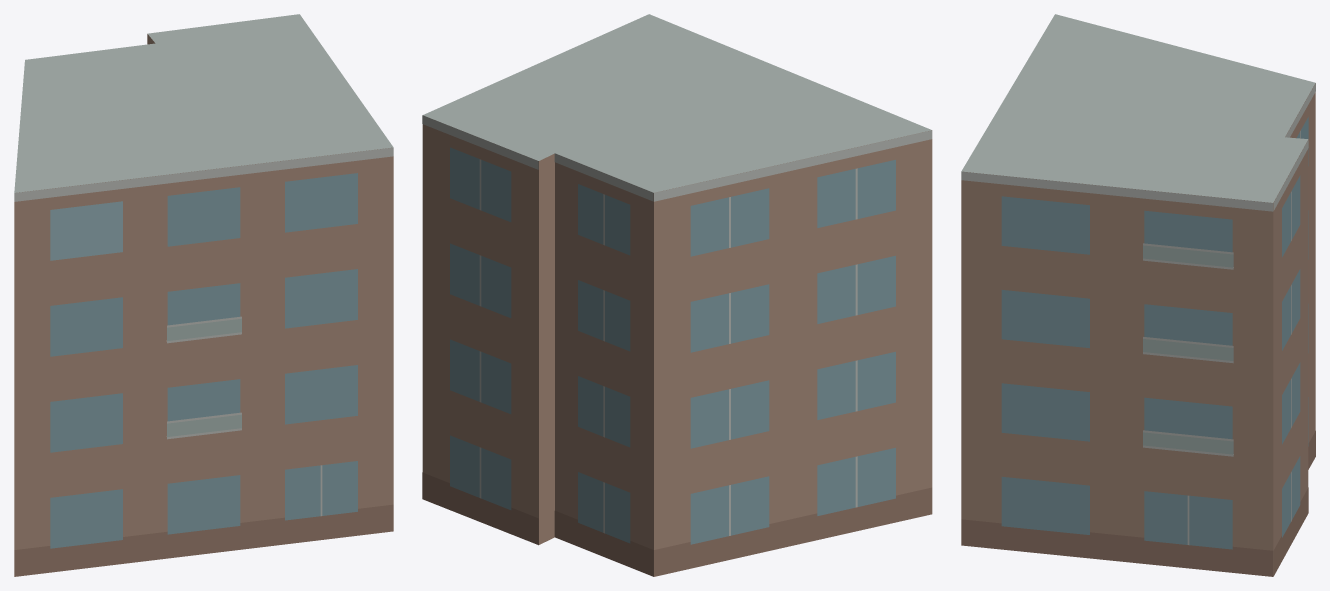
Rendered from survey-upis-32760913.glb.
3 views of the same model, side by side, from view 1: azimuth 30°, elevation 25°; view 2: azimuth 150°, elevation 25°; view 3: azimuth 270°, elevation 25° (orthographic). The views are drawn at different scales.
Parts seen in each view (by area): view 1: survey-upis-32760913.tmp; view 2: survey-upis-32760913.tmp; view 3: survey-upis-32760913.tmp.
Part boxes in pixels (x1,y1,x2,y2): survey-upis-32760913.tmp: (14, 14, 393, 576); survey-upis-32760913.tmp: (422, 14, 932, 576); survey-upis-32760913.tmp: (961, 14, 1315, 576).
Size of the model in its own units: 11.39 by 10.5 by 9.03.
